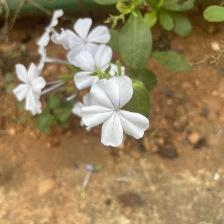chitrak: (83, 74, 151, 154), (68, 16, 112, 68), (19, 62, 46, 113)
